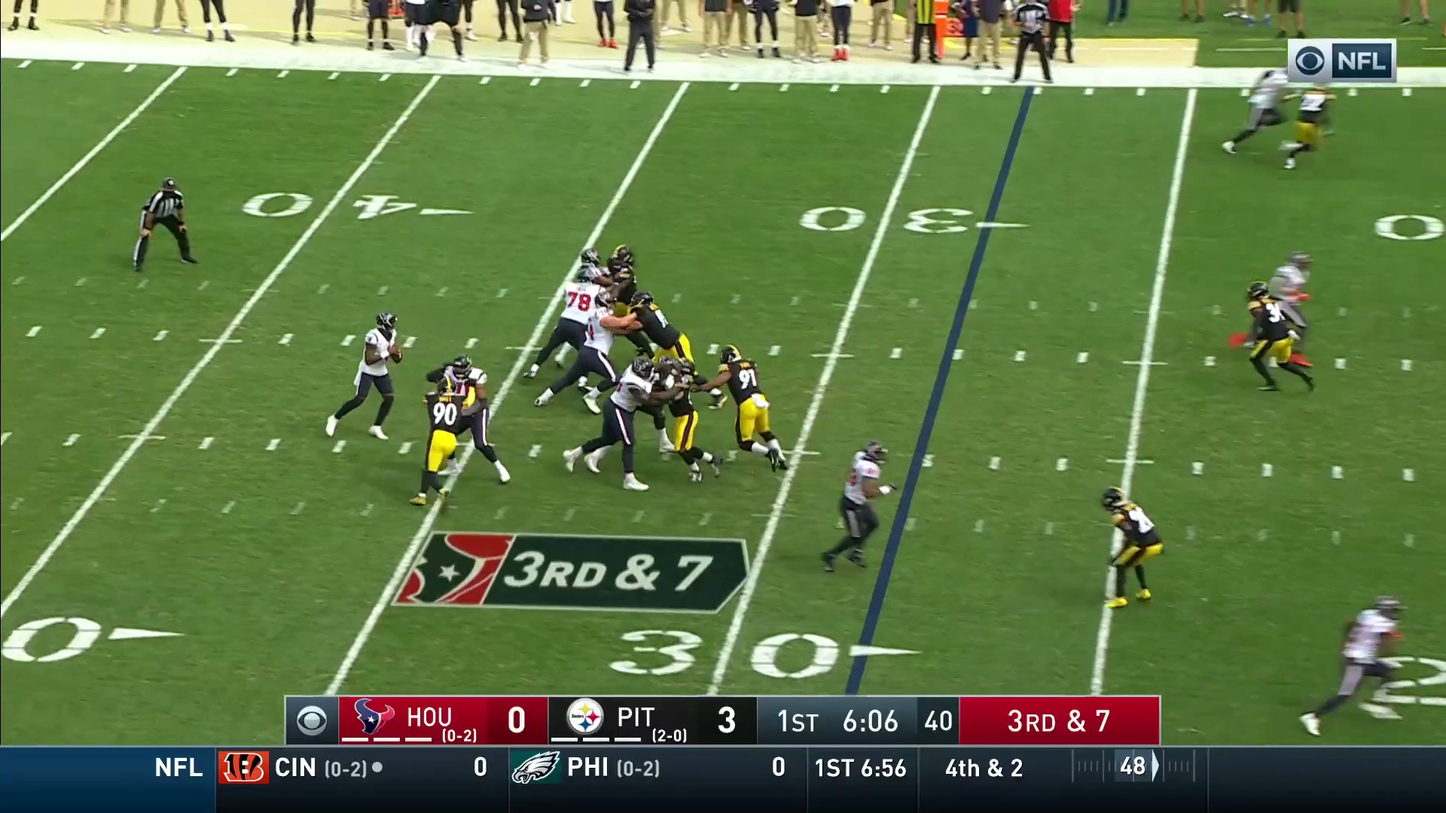Player: (718, 346, 783, 467), (1247, 278, 1313, 388), (432, 355, 493, 474), (412, 362, 463, 502), (1102, 486, 1161, 606), (1338, 597, 1403, 697), (1251, 253, 1312, 340), (841, 440, 889, 546), (561, 249, 605, 354), (655, 352, 698, 454), (1295, 89, 1332, 152), (604, 245, 636, 304)
